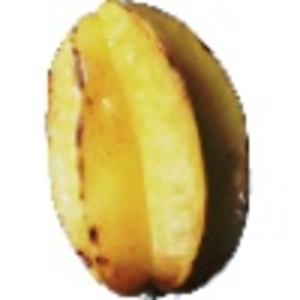carambola: (43, 1, 251, 300)
